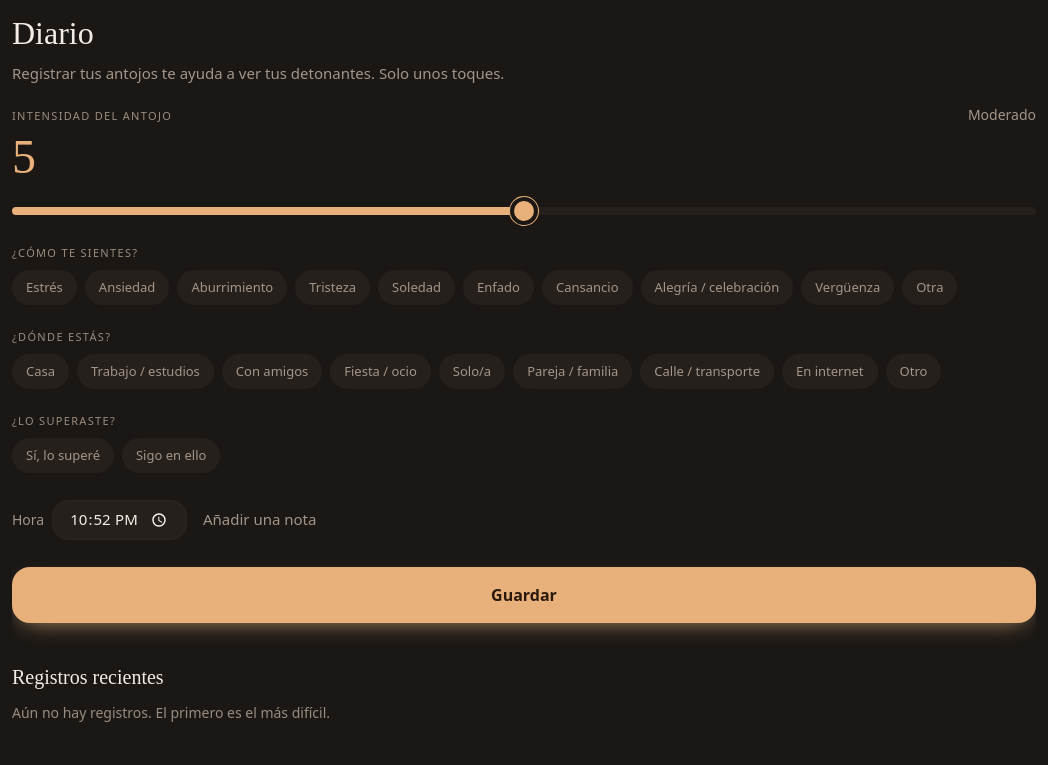
Journal › saves a quick check-in without typing and resets the form
Set the slider to "8" at [826, 211], box x1=12 y1=207 x2=1036 y2=215
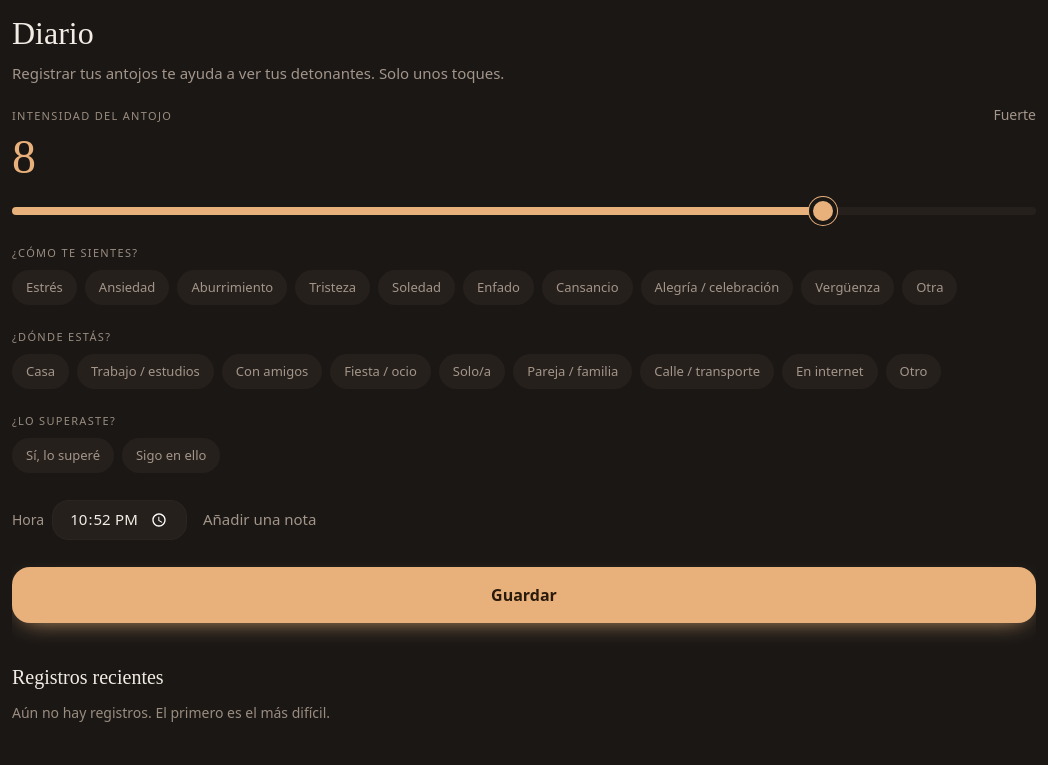
Click the button "Estrés" at [44, 288], box x1=12 y1=270 x2=77 y2=305
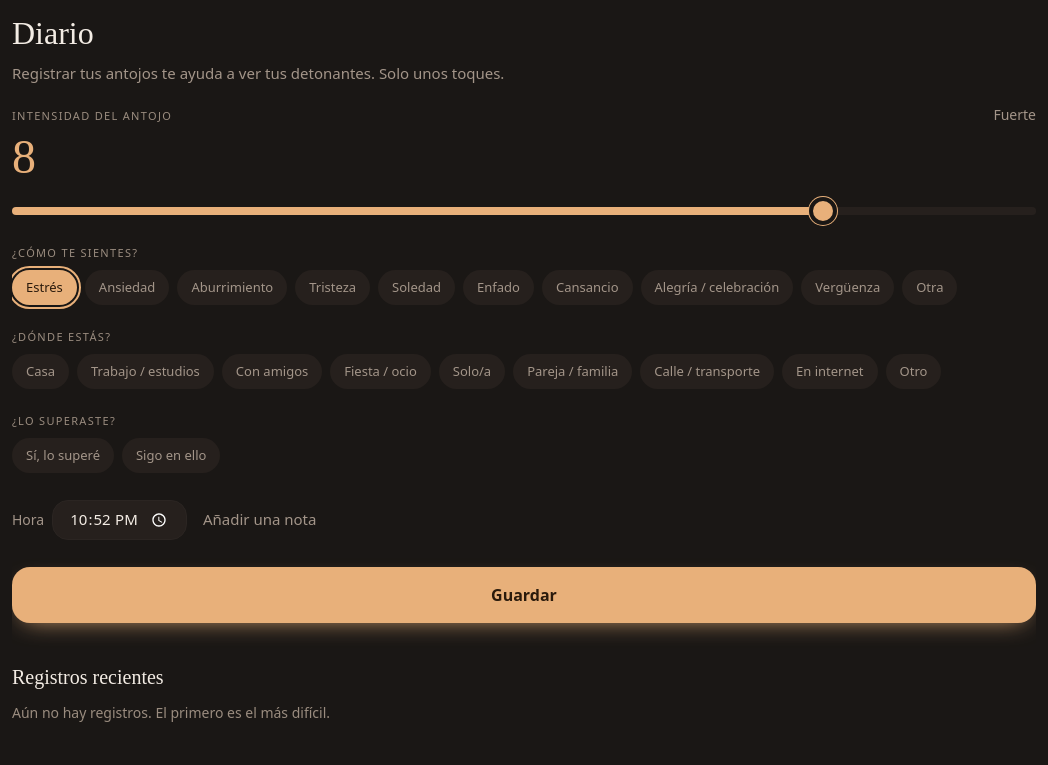
Click the button "Casa" at [40, 372], box x1=12 y1=354 x2=69 y2=389
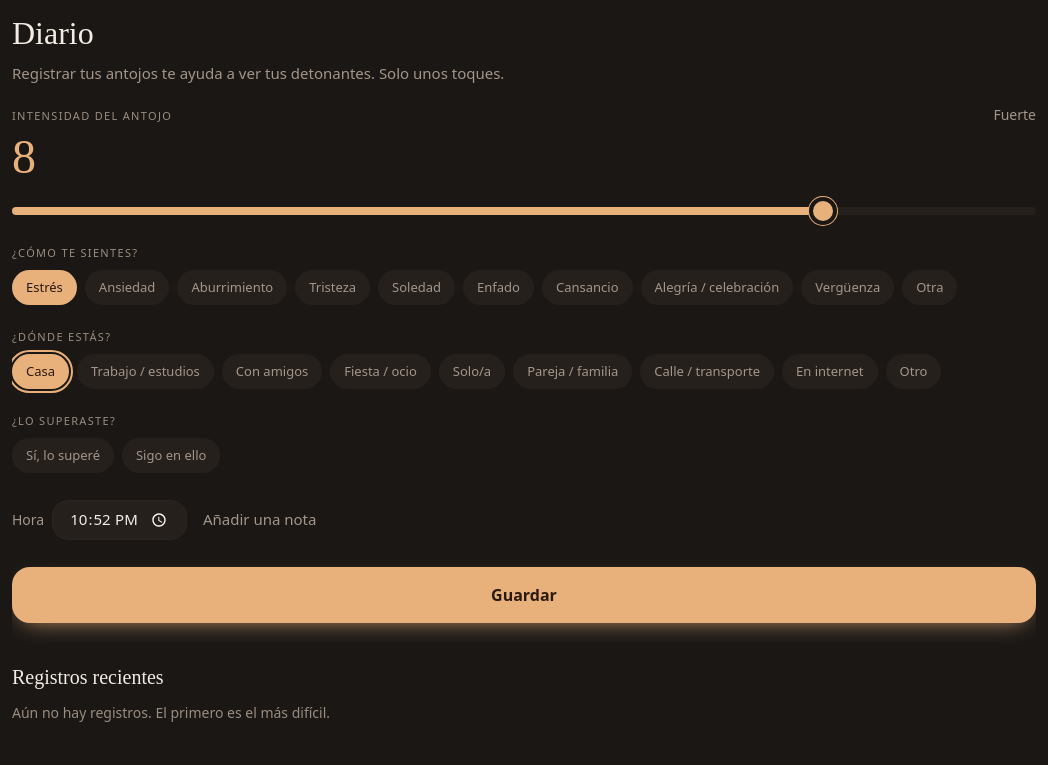
Click the button "Sí, lo superé" at [63, 456], box x1=12 y1=438 x2=114 y2=473
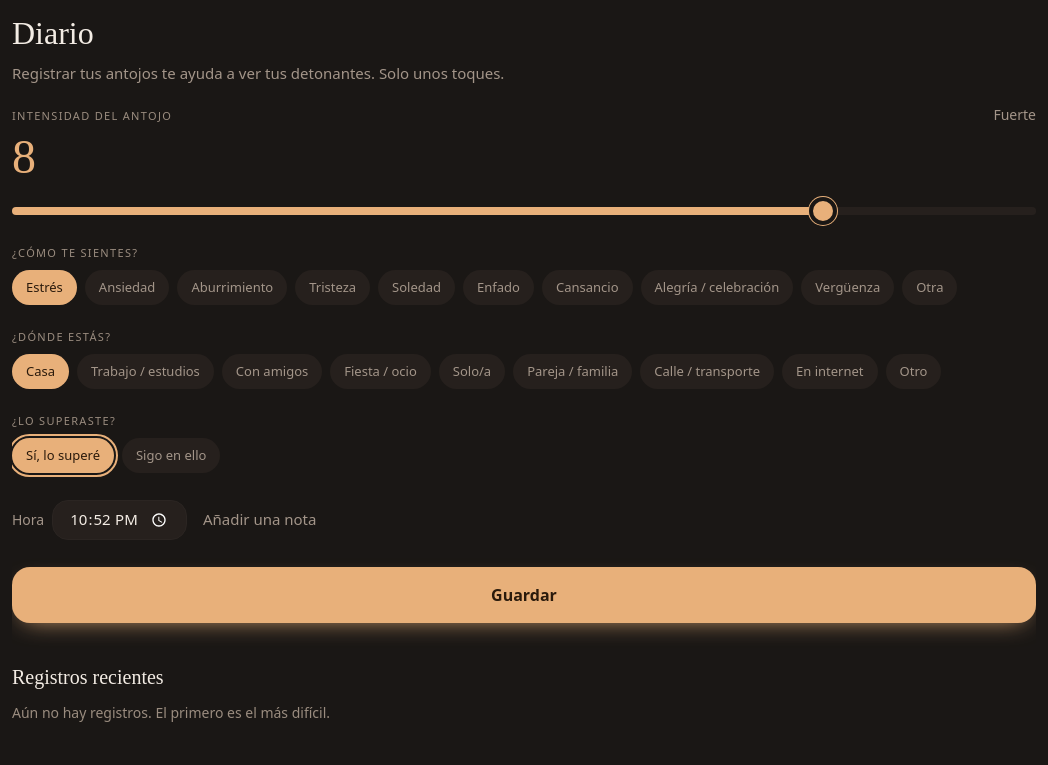
Click the button "Guardar" at [524, 595], box x1=12 y1=567 x2=1036 y2=623
(page scrolled)
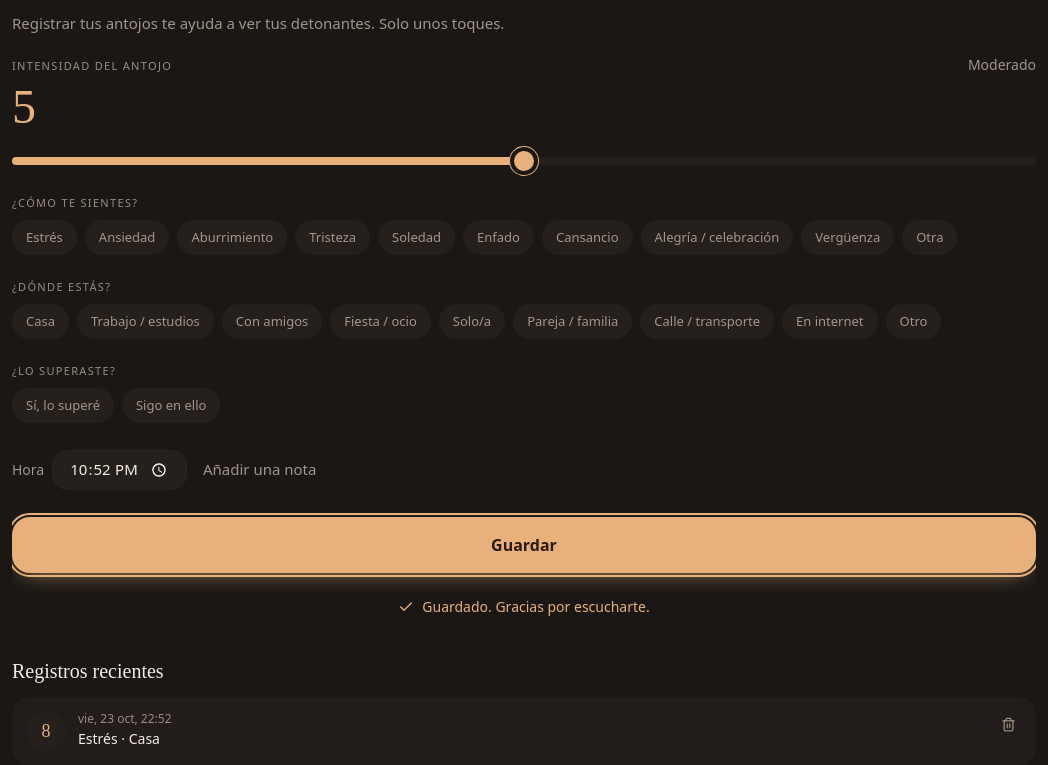
Expected: the list named "registros recientes" shows "Estrés", x1=78 y1=729 x2=160 y2=748
